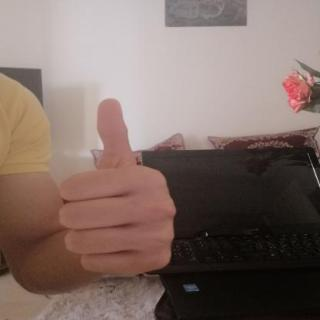ALIF: (39, 85, 191, 284)
